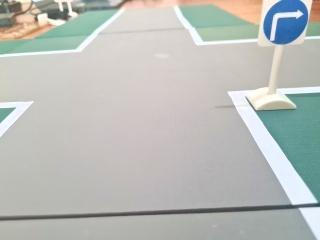right: (261, 1, 312, 47)
